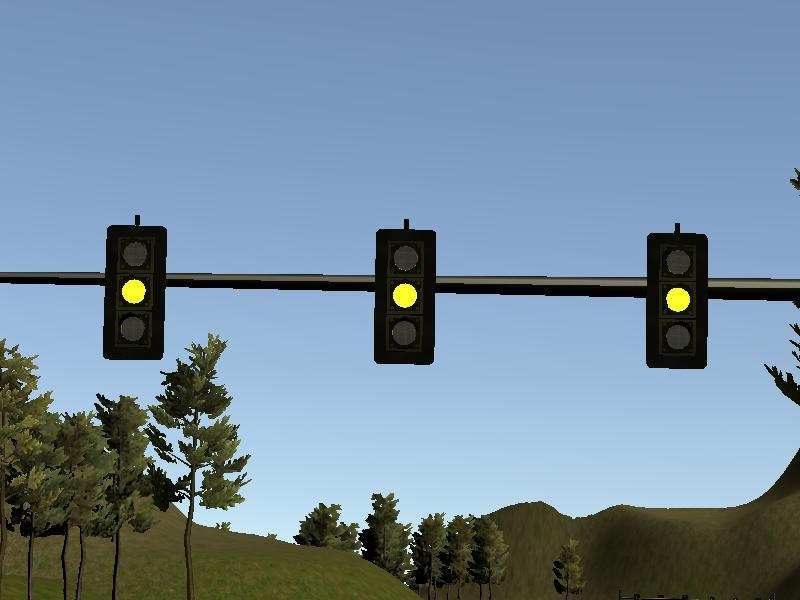Yellow: (647, 233, 708, 368), (105, 224, 163, 360), (376, 229, 433, 366)
